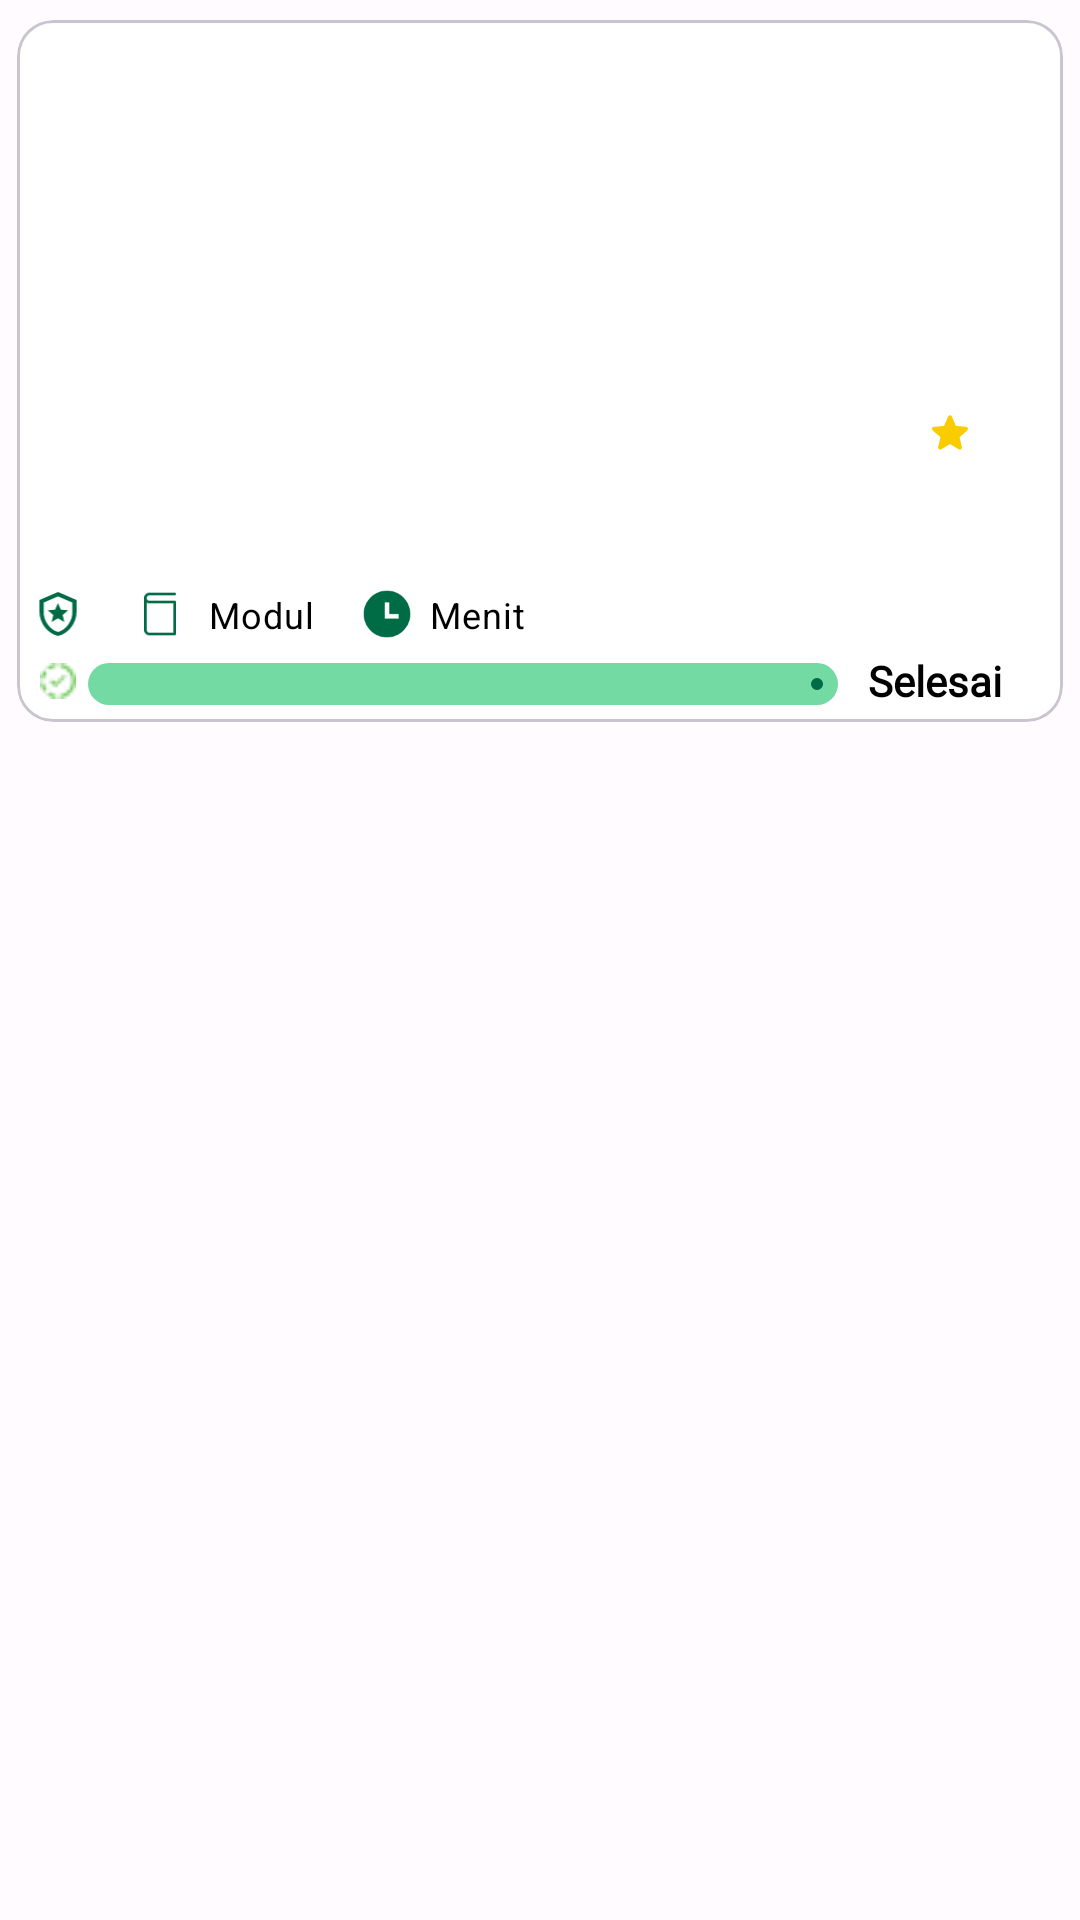

Icon click points for this 1080px×1920px phone screenshot, format [x,y]:
check progress: [58,681]
level: [58,614]
rating: [950,432]
time: [387,614]
